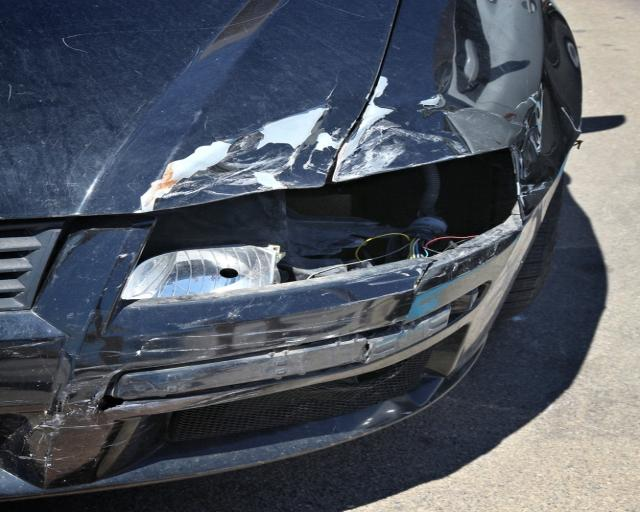crack: (361, 337, 371, 363)
scratch: (27, 307, 369, 473), (131, 102, 357, 212), (325, 98, 519, 186)
